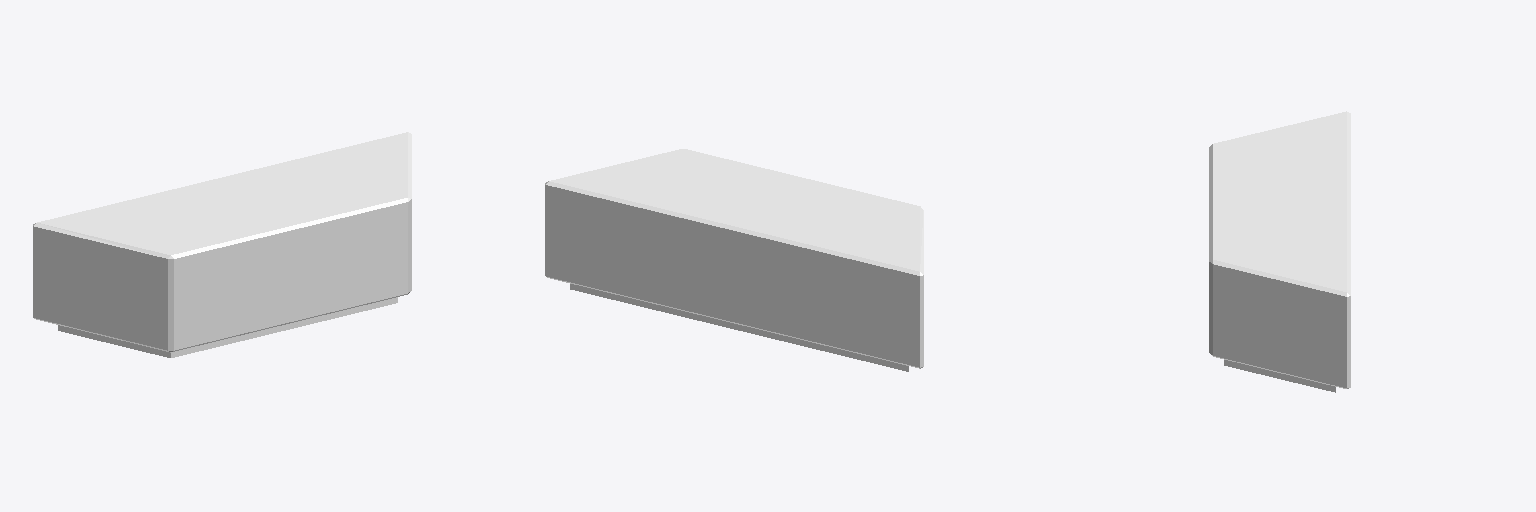
Rendered from Chair_1.obj.
3 renders of one model, left to right at view 1: azimuth 30°, elevation 25°; view 2: azimuth 150°, elevation 25°; view 3: azimuth 270°, elevation 25°, orthographic.
Visible parts, largest first — view 1: Mesh175_Group150_Component_4_1_Component_1_1_Model.1; view 2: Mesh175_Group150_Component_4_1_Component_1_1_Model.1; view 3: Mesh175_Group150_Component_4_1_Component_1_1_Model.1.
Boxes of the visible parts, x1=… form: Mesh175_Group150_Component_4_1_Component_1_1_Model.1: x1=33, y1=132, x2=411, y2=357; Mesh175_Group150_Component_4_1_Component_1_1_Model.1: x1=545, y1=149, x2=923, y2=371; Mesh175_Group150_Component_4_1_Component_1_1_Model.1: x1=1209, y1=111, x2=1350, y2=392.
Size of the model in its own units: 61.9 by 16.92 by 20.